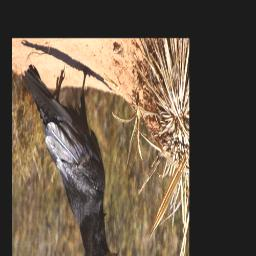Crow: (21, 64, 118, 256)
